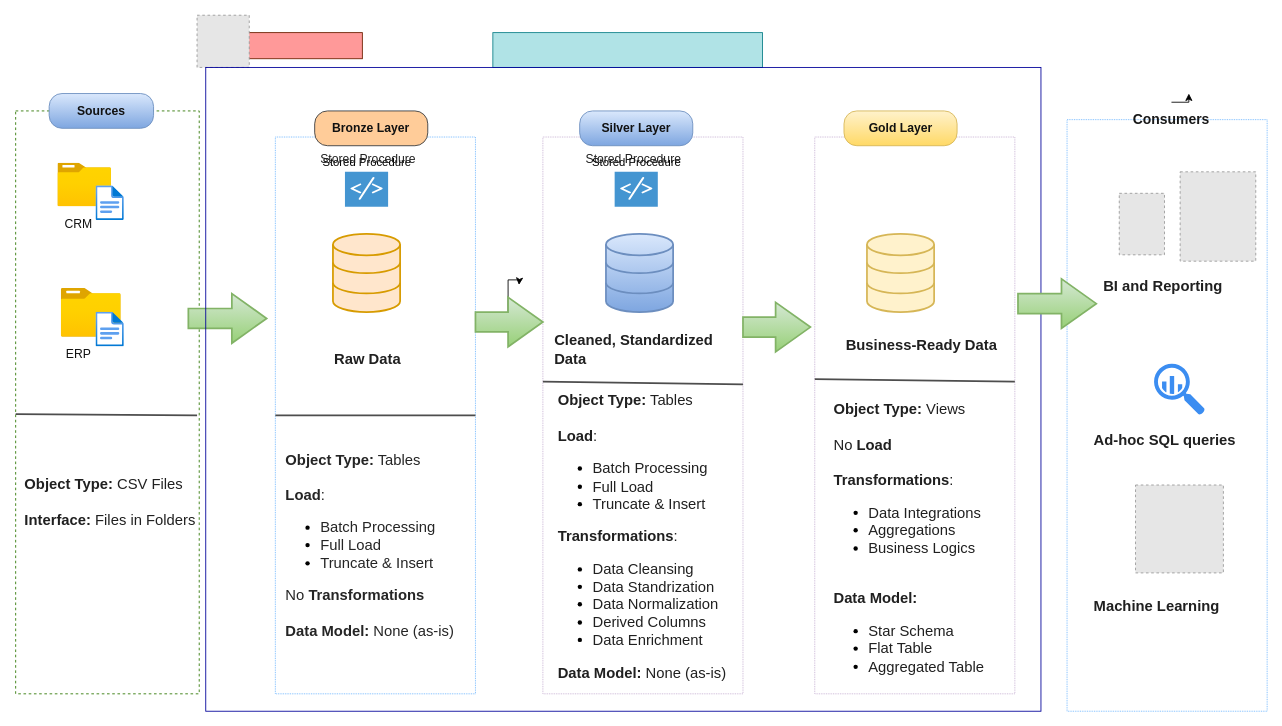
Some shapes in this 1282 by 726 pixel diagram are drawn without their labels. Grey dashed boxes stand in for pictures. The centre of each missing label's shape, as x and y in pixels:
Data Warehouse: pixel 627 49
SQL Server: pixel 301 45
